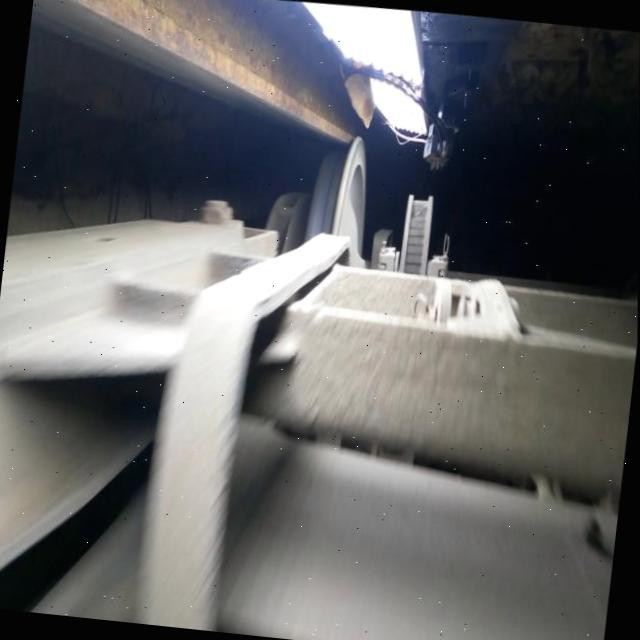Wheel: (305, 135, 366, 263)
